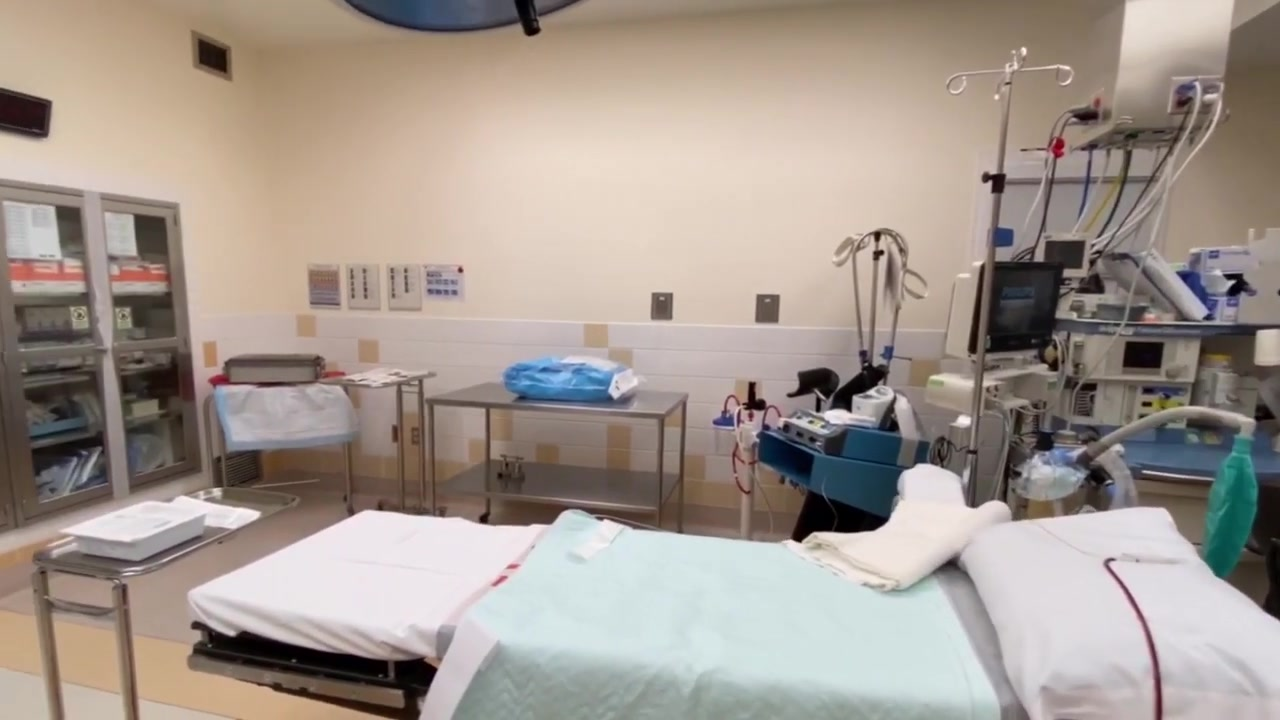bedside_monitor: (965, 260, 1065, 355), (1047, 236, 1089, 275)
breathing_tube: (1045, 403, 1262, 533)
cabinet: (1, 179, 202, 534)
electrosurgical_unit: (776, 407, 917, 466)
iv_pole: (945, 45, 1075, 506), (852, 231, 901, 367)
medical_drawer: (1084, 440, 1280, 560)
operating_bed: (202, 499, 1280, 720)
surgical_light: (329, 1, 596, 38)
utility_cart: (29, 487, 301, 720), (424, 381, 689, 534), (318, 368, 438, 517)
